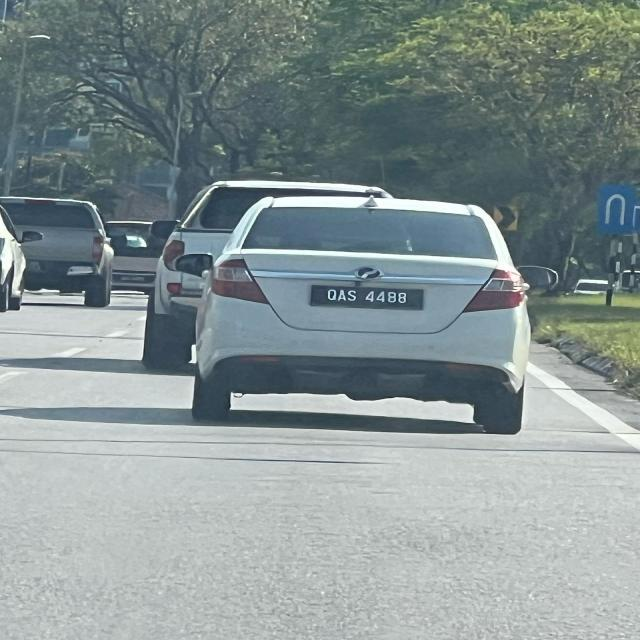PeroduaBezza: (174, 191, 546, 435)
